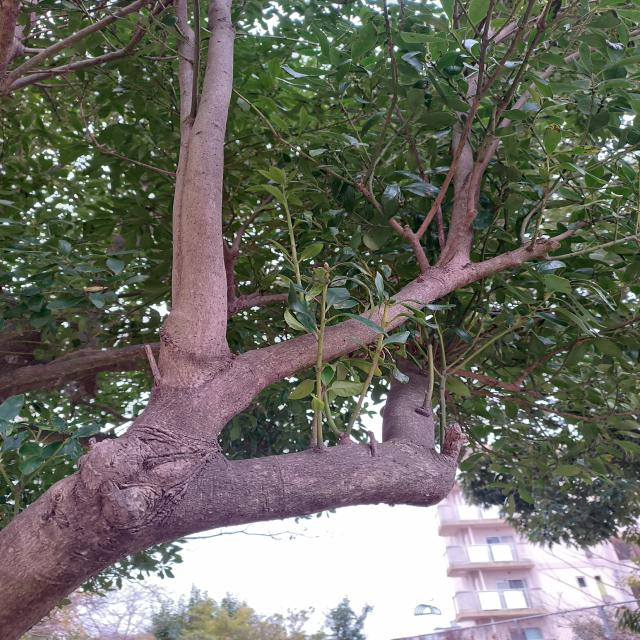Branch: (125, 351, 461, 556), (190, 259, 473, 435), (154, 0, 235, 389)
Twig: (6, 0, 172, 92), (0, 0, 149, 88), (416, 87, 485, 237), (438, 101, 483, 260), (472, 239, 561, 280), (362, 187, 415, 237), (541, 235, 639, 261), (548, 211, 624, 241), (232, 293, 290, 318), (408, 234, 430, 273)
